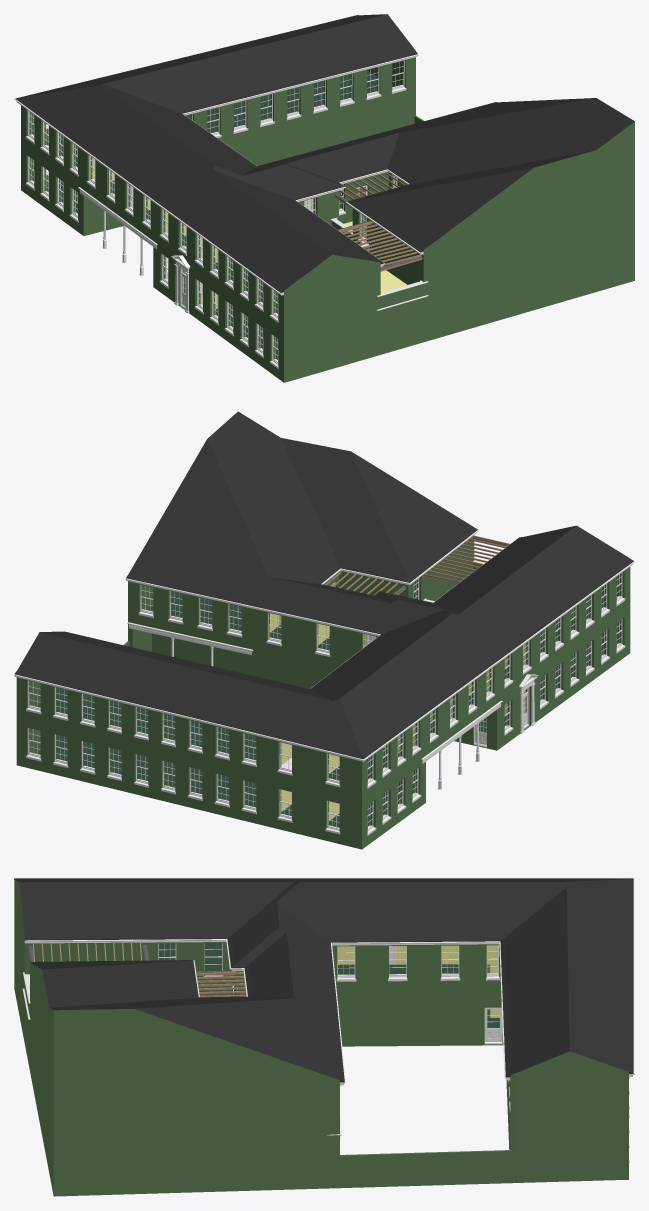
Rendered from evolved-3M.dom.dae.
The picture shows the model from 3 angles, top to bottom: view 1: azimuth 30°, elevation 25°; view 2: azimuth 150°, elevation 25°; view 3: azimuth 270°, elevation 25°; orthographic projection. The views are drawn at different scales.
Visible parts, largest first — view 1: Mesh437, Mesh440, Mesh439, Mesh438, Mesh436, Mesh325, Mesh659, Mesh320, Mesh324, Mesh658, Mesh657, Mesh322 (+26 smaller); view 2: Mesh437, Mesh439, Mesh438, Mesh440, Mesh436, Mesh441, Mesh533, Mesh189, Mesh403, Mesh310, Mesh532, Mesh308 (+41 smaller); view 3: Mesh437, Mesh438, Mesh439, Mesh436, Mesh660, Mesh440, Mesh327, Mesh315, Mesh401, Mesh656, Mesh321, Mesh441 (+25 smaller).
Boxes of the visible parts, x1,y1,x2,y2 form: Mesh437: (354,98,634,230); Mesh440: (353,139,634,249); Mesh439: (21,73,296,223); Mesh438: (30,14,415,136); Mesh436: (23,76,379,290); Mesh325: (520,234,634,314); Mesh659: (520,188,634,267); Mesh320: (227,97,415,165); Mesh324: (427,268,519,340); Mesh658: (428,222,519,294); Mesh657: (289,263,377,335); Mesh322: (289,310,377,381); Mesh437: (128,411,338,593); Mesh439: (261,602,537,754); Mesh438: (17,631,384,754); Mesh440: (281,438,473,578); Mesh436: (267,525,630,755); Mesh441: (128,554,399,632); Mesh533: (14,559,633,759); Mesh189: (36,735,256,807); Mesh403: (36,688,256,760); Mesh310: (245,650,336,688); Mesh532: (14,561,634,761); Mesh308: (152,633,245,673); Mesh437: (37,995,339,1088); Mesh438: (505,887,628,1075); Mesh439: (228,879,628,939); Mesh436: (14,879,628,936); Mesh660: (53,1080,334,1142); Mesh440: (30,960,206,1088); Mesh327: (128,1136,286,1194); Mesh315: (337,991,476,1046); Mesh401: (330,1150,520,1188); Mesh656: (517,1072,624,1128); Mesh321: (517,1126,624,1182); Mesh441: (249,931,339,1082).
Size of the model in its own units: 25.3 by 31.3 by 10.86.
